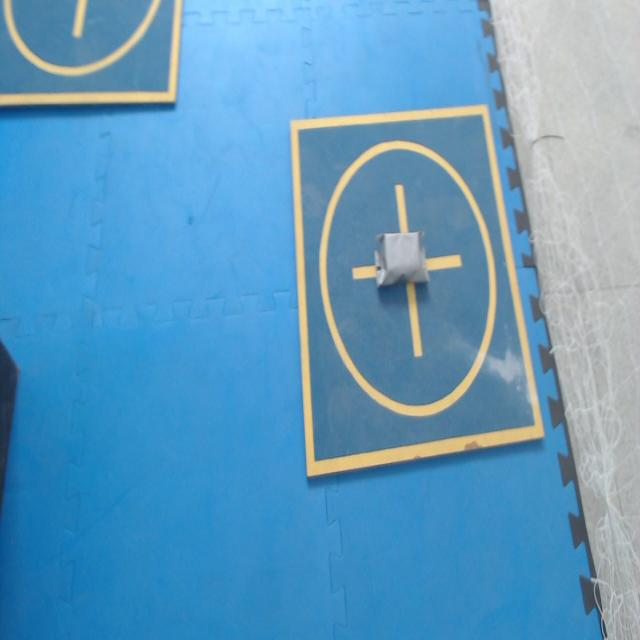horizontal: (374, 232, 428, 286), (396, 185, 404, 212)
